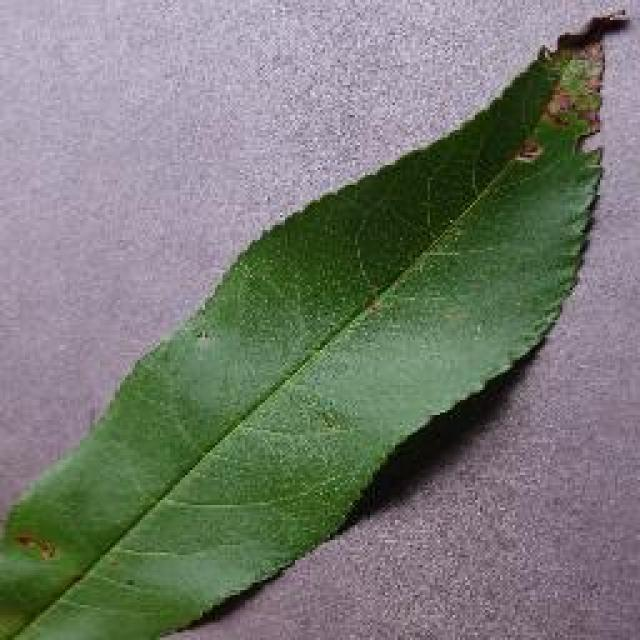Peach_Bacterial_Spot: (401, 44, 640, 183)
